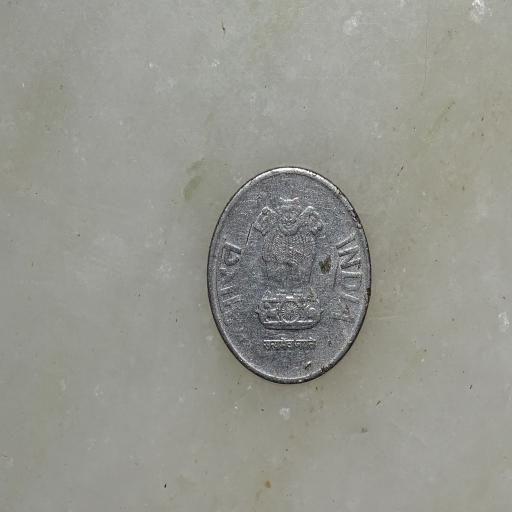rupee2: (204, 165, 374, 386)
